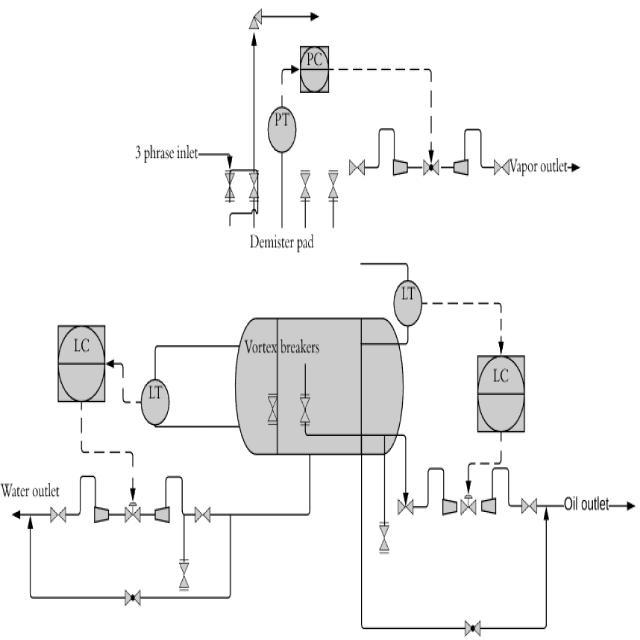Angle Valve: (244, 3, 267, 34)
Flanged: (170, 552, 198, 594), (374, 516, 392, 560), (295, 162, 314, 202), (326, 160, 340, 212), (246, 166, 264, 206), (222, 165, 238, 208)
Gate Valve: (512, 488, 542, 520), (347, 153, 370, 182), (491, 148, 512, 178), (194, 500, 216, 525), (48, 503, 68, 525)
Globe Valve: (116, 582, 146, 617), (461, 614, 489, 640), (416, 158, 444, 176)
Needle Valve: (389, 482, 422, 518)
Pneumatic-Diaphragm Gate Valve: (120, 500, 144, 530), (458, 488, 480, 520)
